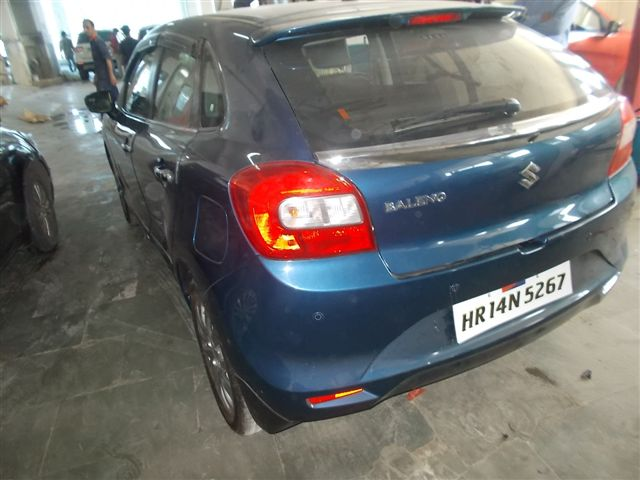Dislocation: (265, 260, 295, 295), (322, 252, 339, 297), (329, 302, 346, 321)
